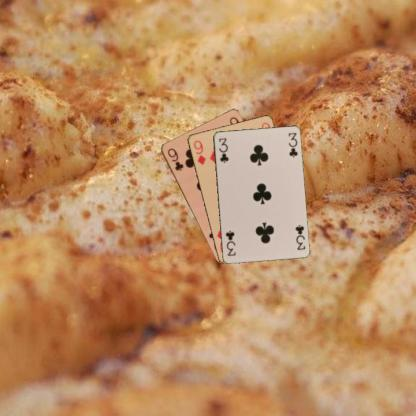3c: (292, 222, 307, 251), (216, 135, 230, 164)
9c: (165, 146, 184, 172)
9d: (191, 137, 207, 166)
